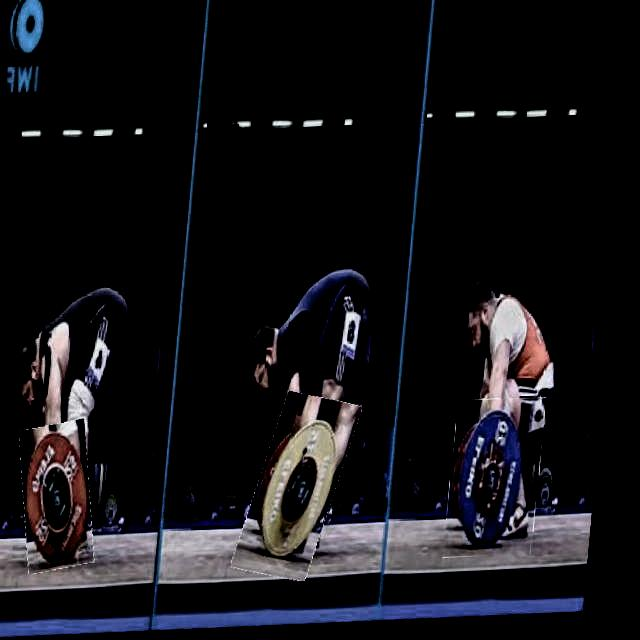barbell: (251, 395, 362, 585), (455, 402, 555, 564), (24, 422, 111, 575)
